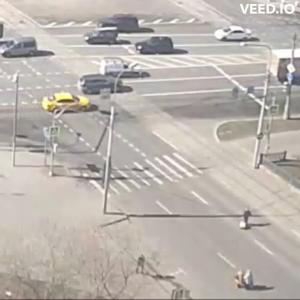car: (97, 10, 150, 33), (95, 58, 146, 80), (43, 93, 93, 113), (215, 26, 258, 44), (138, 40, 180, 57), (80, 77, 112, 97), (88, 27, 113, 46), (1, 40, 18, 56)
